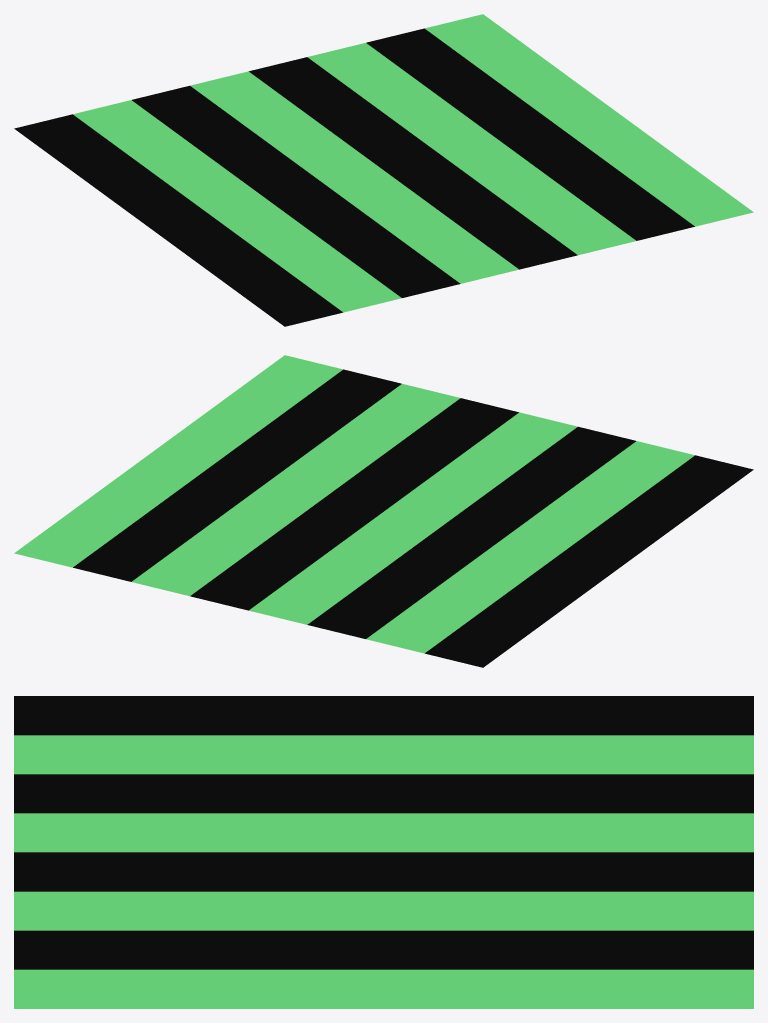
Rendered from Ground.fbx.
The picture shows the model from 3 angles, top to bottom: view 1: azimuth 30°, elevation 25°; view 2: azimuth 150°, elevation 25°; view 3: azimuth 270°, elevation 25°; orthographic projection. The views are drawn at different scales.
Visible parts, largest first — view 1: Плоскость; view 2: Плоскость; view 3: Плоскость.
Boxes of the visible parts, x1,y1,x2,y2 form: Плоскость: (14,14,753,326); Плоскость: (14,355,753,667); Плоскость: (14,696,753,1008).
Size of the model in its own units: 2 by 6.62e-23 by 2.
